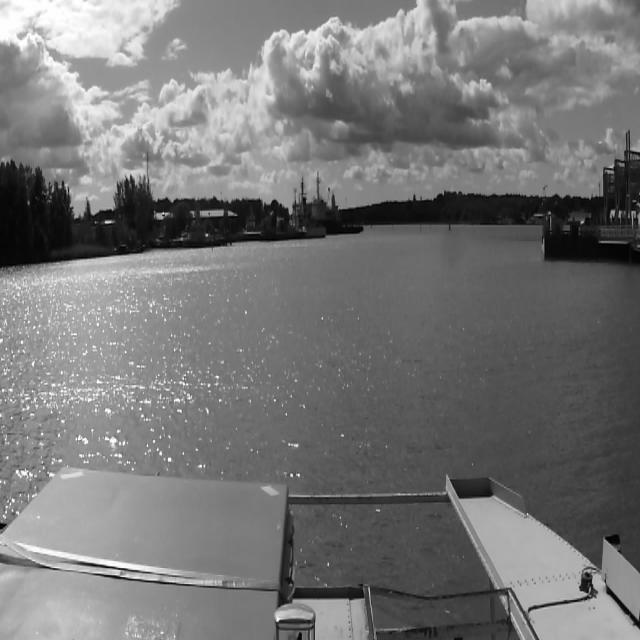buoy: (417, 220, 420, 233), (447, 224, 450, 231)
ship: (292, 170, 364, 233)
